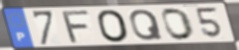5: (193, 7, 225, 40)
7: (31, 10, 57, 47)
F: (61, 9, 93, 45)
O: (95, 8, 132, 44), (160, 7, 196, 42)
Q: (129, 8, 166, 42)
